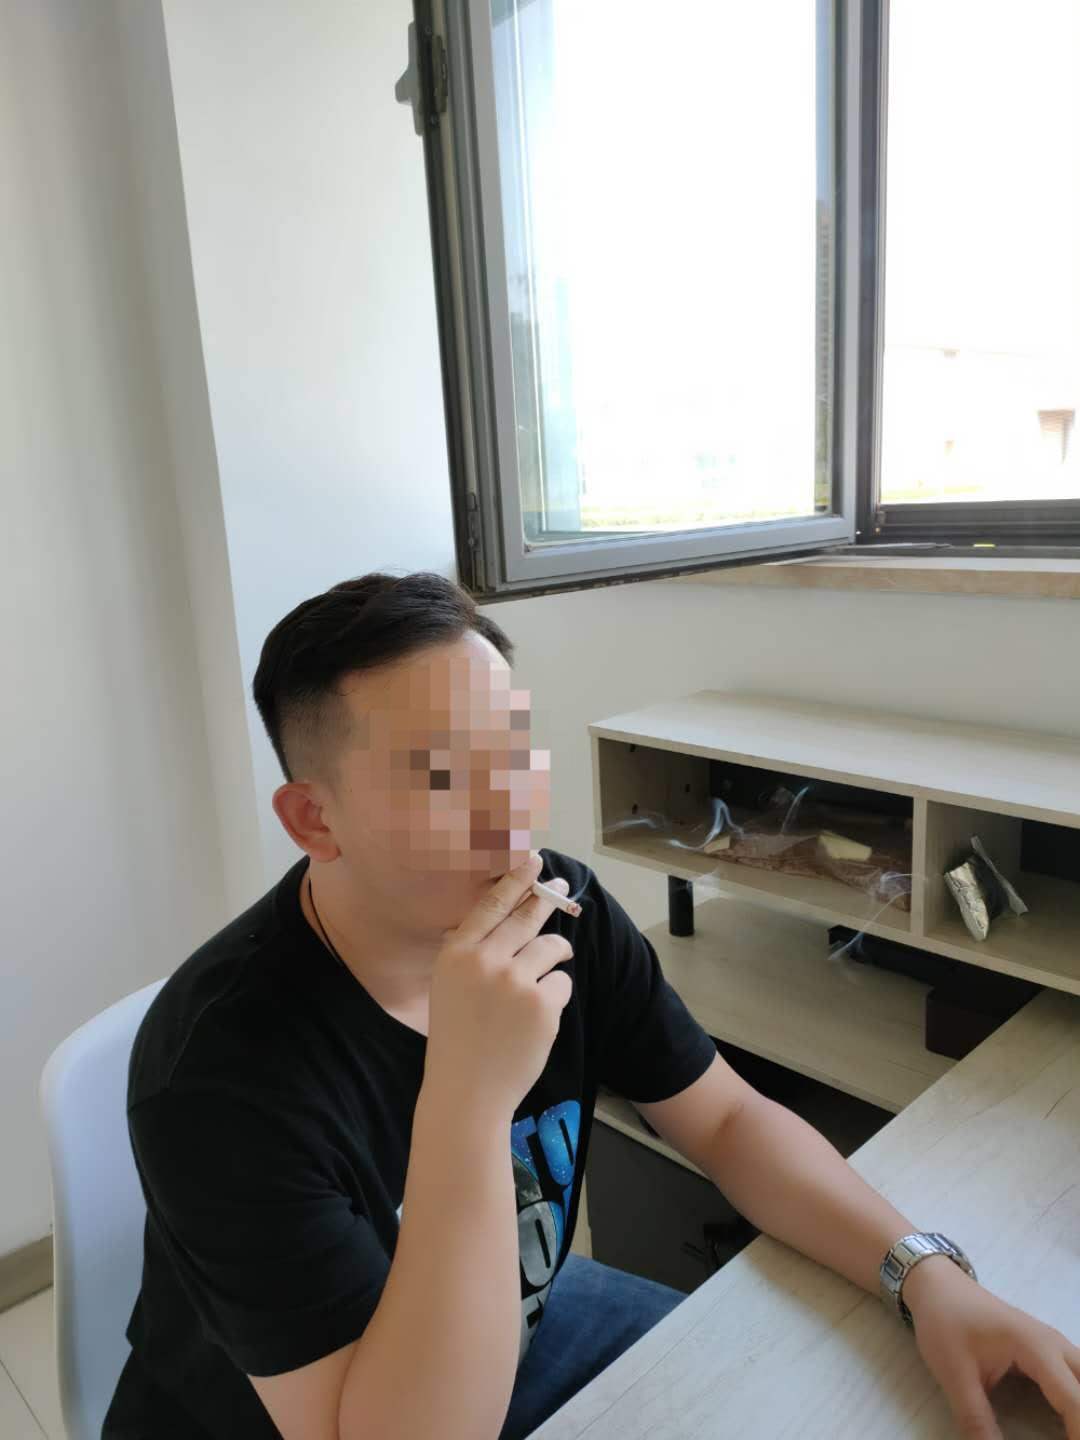smoke: (537, 884, 583, 920)
